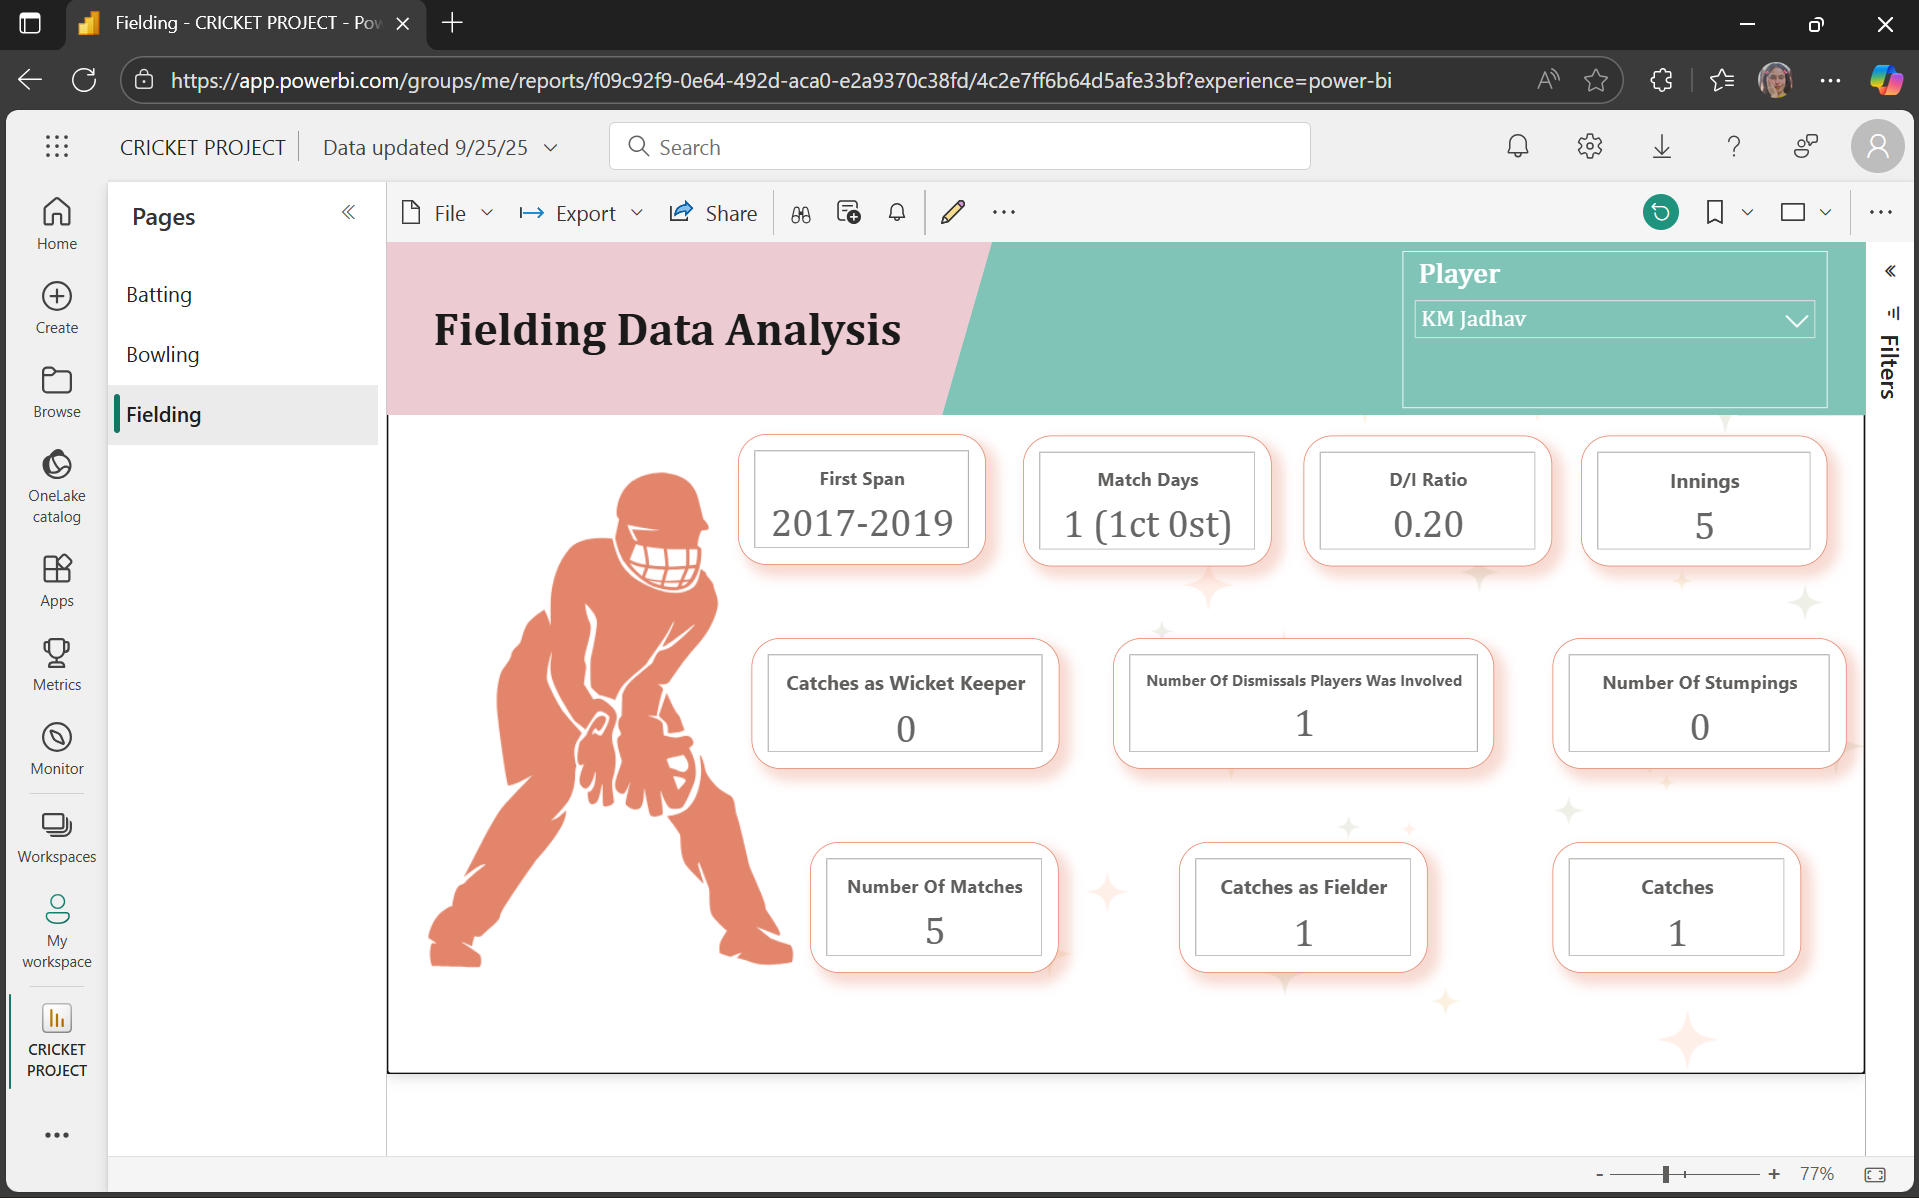

Layout of this report page (visuals, bound fields, positions):
{"tool":"powerbi","page":{"name":"Fielding","canvas":[1280,720],"ordinal":2},"visuals":[{"type":"shape","box":[1168.2,0,111.8,150],"z":0},{"type":"shape","box":[0,0,822.5,149.8],"z":1000},{"type":"shape","box":[480,0,799.5,149.9],"z":2000},{"type":"slicer","fields":{"Values":["Fielding.Player"]},"box":[879.8,7.6,368,136.3],"z":3000},{"type":"cardVisual","fields":{"Data":["Min(Fielding.Span)"]},"box":[304.1,166.5,214.5,113.6],"z":4000},{"type":"cardVisual","fields":{"Data":["Sum(Fielding.St)"]},"box":[1008.5,342.2,254.4,113.6],"z":5000},{"type":"cardVisual","fields":{"Data":["Min(Fielding.MD)"]},"box":[551.2,168.1,215,113.6],"z":6000},{"type":"cardVisual","fields":{"Data":["Sum(Fielding.Mat)"]},"box":[366.4,519.4,215,113.6],"z":7000},{"type":"cardVisual","fields":{"Data":["Sum(Fielding.Inns)"]},"box":[1034.2,168.1,213.5,113.6],"z":8000},{"type":"cardVisual","fields":{"Data":["Sum(Fielding.Dis)"]},"box":[628.4,342.2,330.1,113.6],"z":9000},{"type":"cardVisual","fields":{"Data":["Sum(Fielding.D/I)"]},"box":[793.4,168.1,215,113.6],"z":10000},{"type":"cardVisual","fields":{"Data":["Sum(Fielding.Ct Wk)"]},"box":[315,342.2,266.5,113.6],"z":11000},{"type":"cardVisual","fields":{"Data":["Sum(Fielding.Ct Fi)"]},"box":[685.9,519.4,215,113.6],"z":12000},{"type":"cardVisual","fields":{"Data":["Sum(Fielding.Ct)"]},"box":[1008.5,519.4,215,113.6],"z":13000}]}

Visuals, with their boxes on the page's 1280x720 design canvas (x1, y1, x2, y2). These are canvas units, not pixel positions in the 1919x1198 screenshot, which may show the page scaled, cropped or inside an application window:
shape: select_region(1168, 0, 1280, 150)
shape: select_region(0, 0, 822, 150)
shape: select_region(480, 0, 1280, 150)
slicer - Fielding.Player: select_region(880, 8, 1248, 144)
cardVisual - Min(Fielding.Span): select_region(304, 166, 519, 280)
cardVisual - Sum(Fielding.St): select_region(1008, 342, 1263, 456)
cardVisual - Min(Fielding.MD): select_region(551, 168, 766, 282)
cardVisual - Sum(Fielding.Mat): select_region(366, 519, 581, 633)
cardVisual - Sum(Fielding.Inns): select_region(1034, 168, 1248, 282)
cardVisual - Sum(Fielding.Dis): select_region(628, 342, 958, 456)
cardVisual - Sum(Fielding.D/I): select_region(793, 168, 1008, 282)
cardVisual - Sum(Fielding.Ct Wk): select_region(315, 342, 582, 456)
cardVisual - Sum(Fielding.Ct Fi): select_region(686, 519, 901, 633)
cardVisual - Sum(Fielding.Ct): select_region(1008, 519, 1224, 633)
